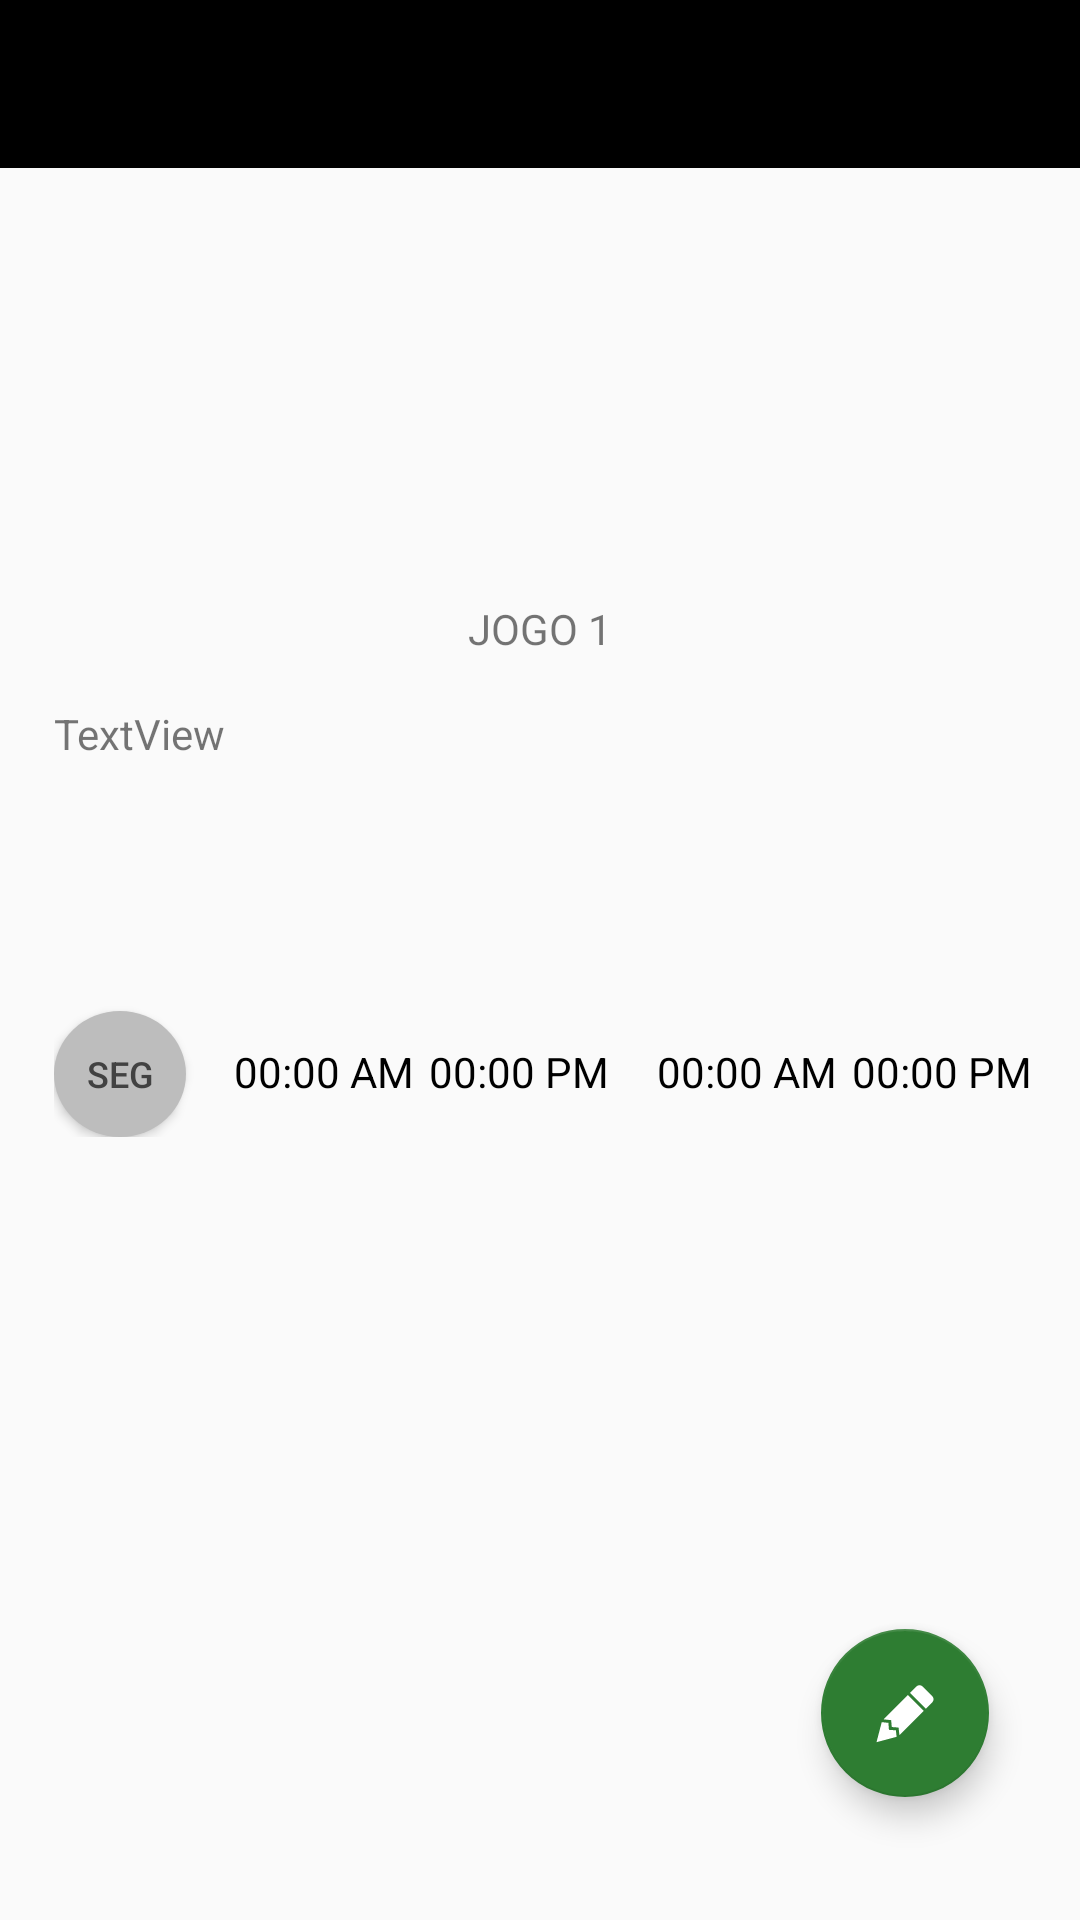

Where icons sit on this 1080 × 1920 app screen, as (x1, y1, x2, y2):
lead pencil: (821, 1629, 989, 1797)
